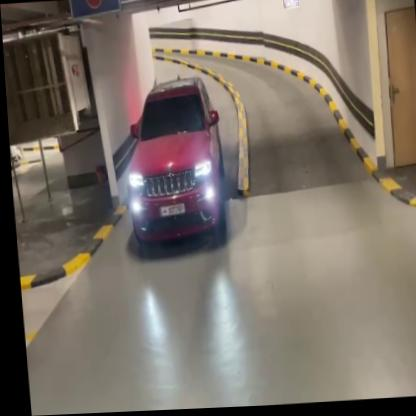np: (155, 204, 182, 217)
